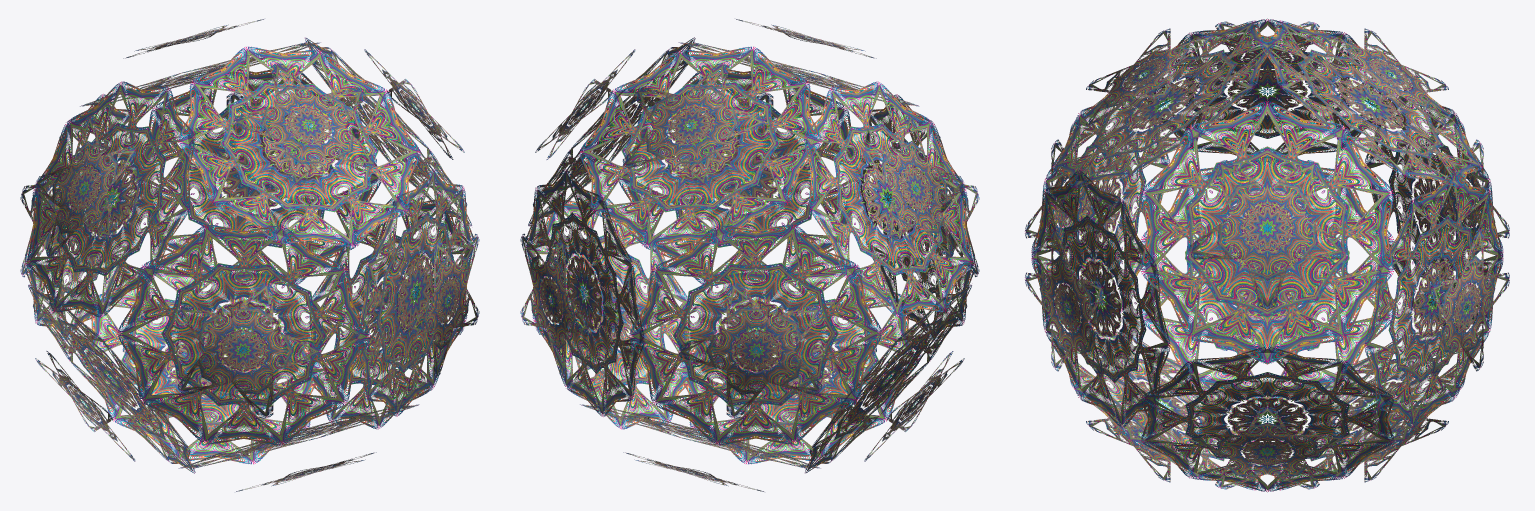
Rendered from 27Icosidodecadodecahedron.gltf.
The picture shows the model from 3 angles, left to right: view 1: azimuth 30°, elevation 25°; view 2: azimuth 150°, elevation 25°; view 3: azimuth 270°, elevation 25°; orthographic projection. The views are drawn at different scales.
Parts seen in each view (by area): view 1: 7Icosidodecadodecahedron; view 2: 7Icosidodecadodecahedron; view 3: 7Icosidodecadodecahedron.
Part boxes in pixels (x1,y1,x2,y2): 7Icosidodecadodecahedron: (20,19,479,491); 7Icosidodecadodecahedron: (520,19,979,491); 7Icosidodecadodecahedron: (1025,18,1509,492).
Bounding box in the file's own units: 2.62 × 2.62 × 2.62.
1 material, 1 textured.
